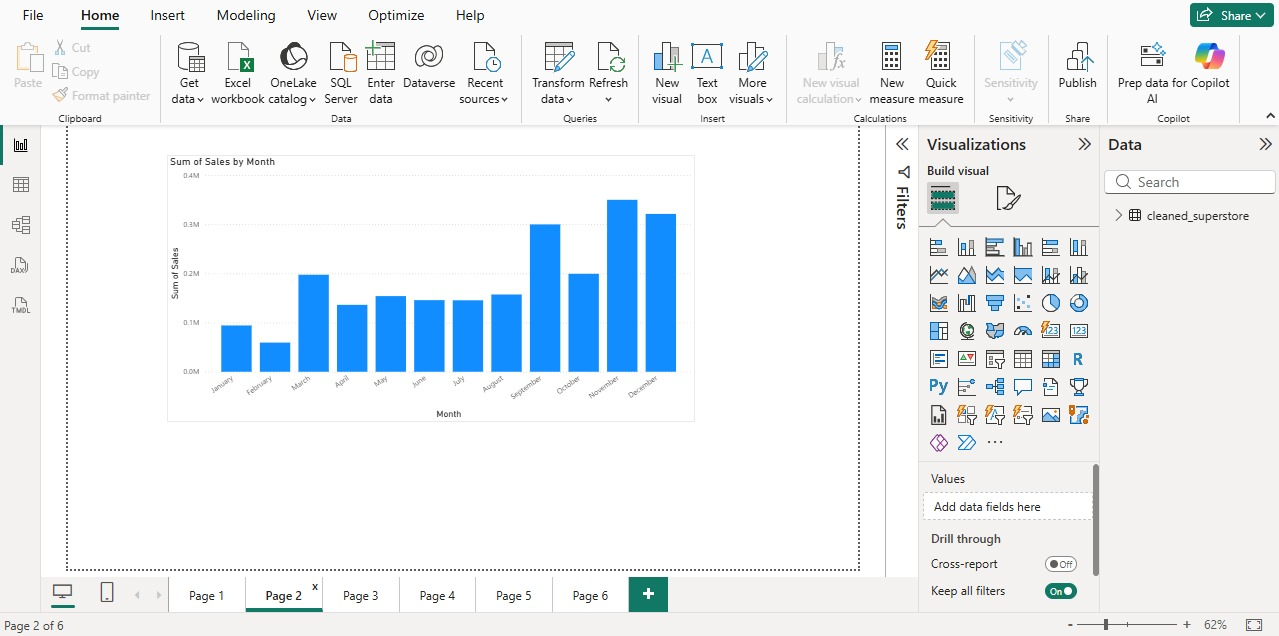

The dashboard page shown, as its layout file describes it:
{"tool":"powerbi","page":{"name":"Page 2","canvas":[1280,720],"ordinal":1},"visuals":[{"type":"lineStackedColumnComboChart","fields":{"Y":["Sum(cleaned_superstore.Sales)"],"Category":["cleaned_superstore.Order Date.Variation.Date Hierarchy.Month"]},"box":[160,48.8,856.2,432.5],"z":0}]}

Visuals, with their boxes on the page's 1280x720 design canvas (x1, y1, x2, y2). These are canvas units, not pixel positions in the 1279x636 screenshot, which may show the page scaled, cropped or inside an application window:
lineStackedColumnComboChart - Sum(cleaned_superstore.Sales) x cleaned_superstore.Order Date.Variation.Date Hierarchy.Month: pyautogui.locateOnScreen(160, 49, 1016, 481)
